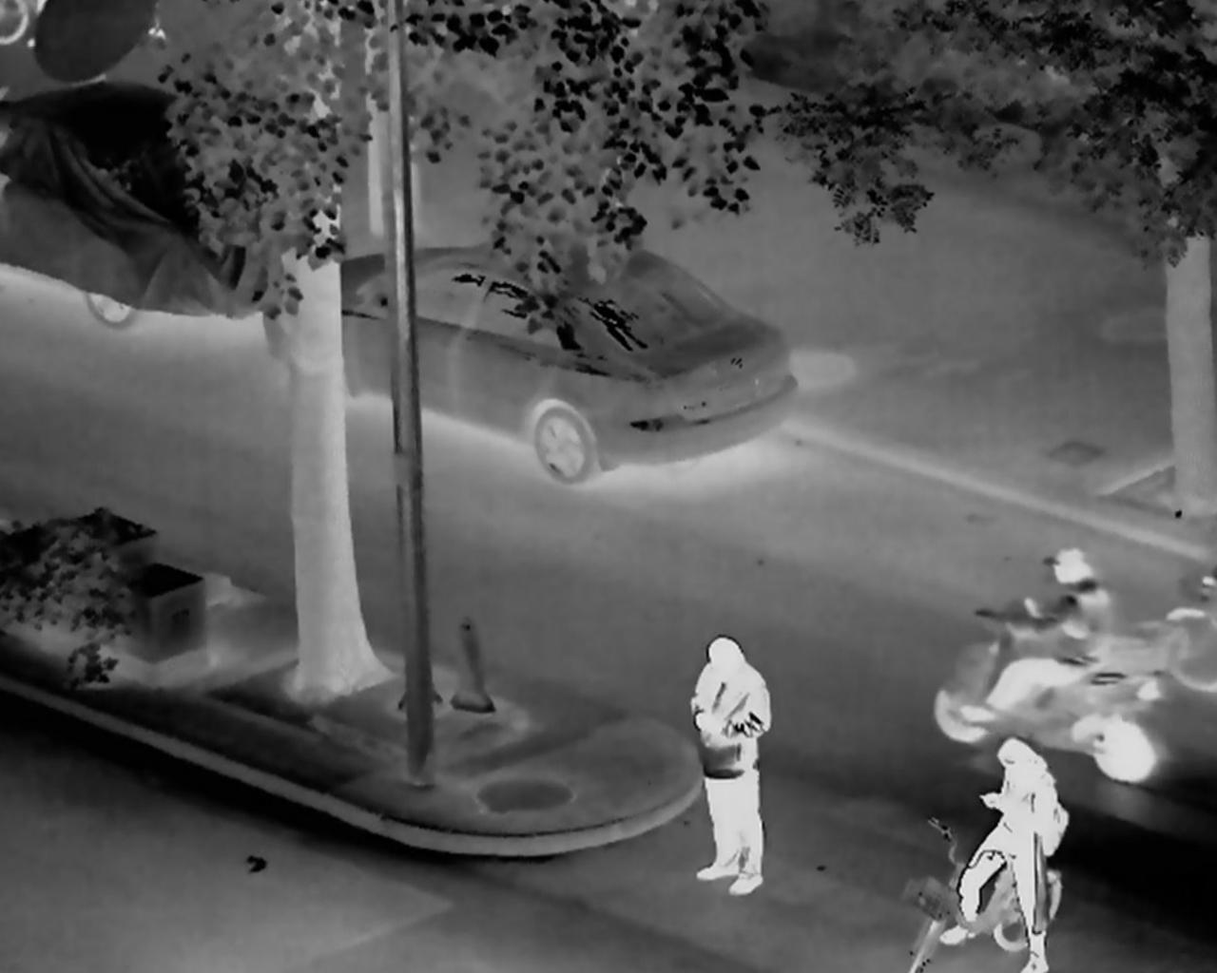person: (941, 735, 1056, 970), (963, 549, 1114, 724), (687, 636, 772, 891)
